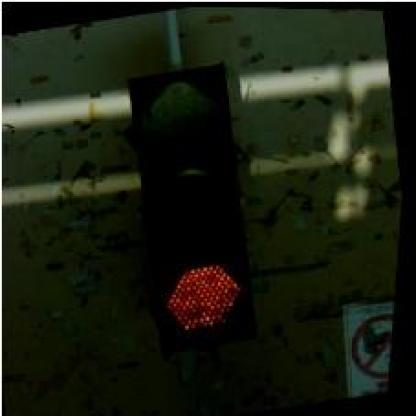red: (111, 60, 274, 354)
